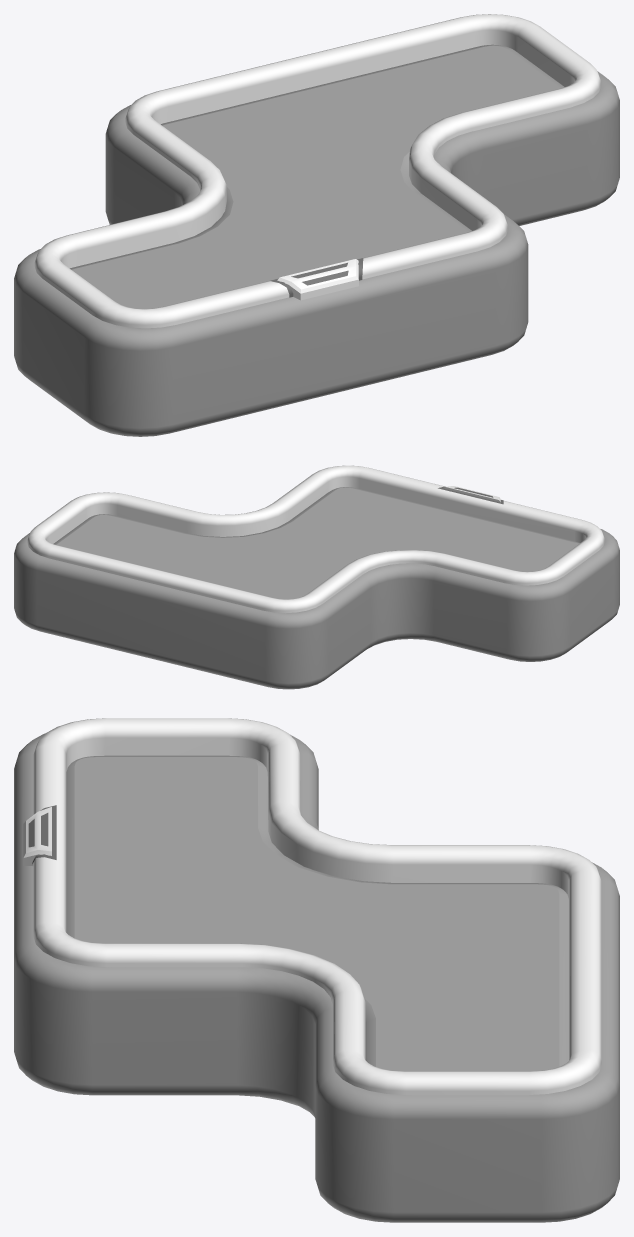
File: Model_Block_Z_Revert_New.fbx
The picture shows the model from 3 angles, top to bottom: view 1: azimuth 30°, elevation 25°; view 2: azimuth 150°, elevation 25°; view 3: azimuth 270°, elevation 25°; orthographic projection. The views are drawn at different scales.
Visible parts, largest first — view 1: Block_Z_BG_R, Block_Z_Water_R, Block_Z_Stroke_R; view 2: Block_Z_BG_R, Block_Z_Water_R, Block_Z_Stroke_R; view 3: Block_Z_BG_R, Block_Z_Water_R, Block_Z_Stroke_R.
Boxes of the visible parts, x1=… form: Block_Z_BG_R: x1=14, y1=71, x2=619, y2=436; Block_Z_Water_R: x1=70, y1=44, x2=564, y2=309; Block_Z_Stroke_R: x1=34, y1=14, x2=601, y2=328; Block_Z_BG_R: x1=14, y1=529, x2=619, y2=689; Block_Z_Water_R: x1=53, y1=487, x2=579, y2=599; Block_Z_Stroke_R: x1=27, y1=465, x2=604, y2=613; Block_Z_BG_R: x1=14, y1=733, x2=619, y2=1222; Block_Z_Water_R: x1=66, y1=755, x2=568, y2=1071; Block_Z_Stroke_R: x1=23, y1=718, x2=601, y2=1095.
Bounding box in the file's own units: 295 × 51.66 × 197.
2 materials, 1 textured.
